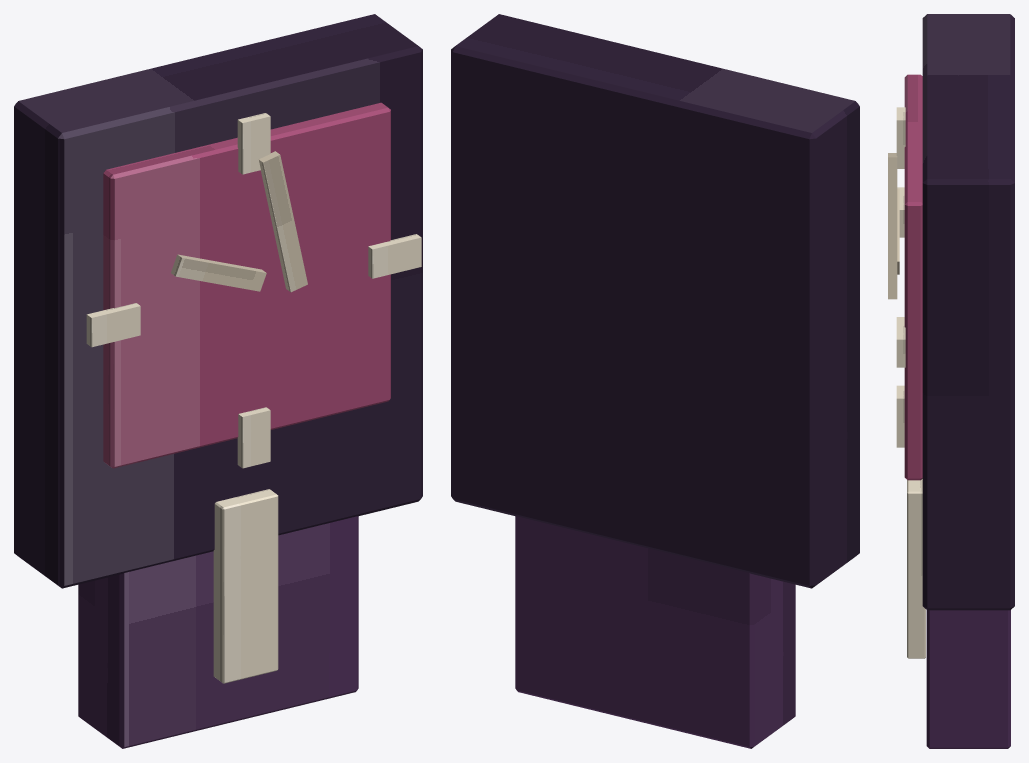
The model's file is bedroom_wall_clock_violet.glb.
The picture shows the model from 3 angles, left to right: view 1: azimuth 30°, elevation 25°; view 2: azimuth 150°, elevation 25°; view 3: azimuth 270°, elevation 25°; orthographic projection. The views are drawn at different scales.
Parts seen in each view (by area): view 1: ClockBack, ClockFace, ClockPendulumCase, ClockPendulum, ClockHandMinute, ClockHandHour, ClockMarker_-0.2_1.45, ClockMarker_0.0_1.25, ClockMarker_0.2_1.45, ClockMarker_0.0_1.65; view 2: ClockBack, ClockPendulumCase; view 3: ClockBack, ClockPendulumCase, ClockFace, ClockPendulum, ClockHandMinute, ClockMarker_0.0_1.65, ClockMarker_0.0_1.25, ClockMarker_0.2_1.45, ClockMarker_-0.2_1.45, ClockHandHour.
Part boxes in pixels (<box>): ClockBack: <box>14,14,422,588</box>; ClockFace: <box>103,102,390,468</box>; ClockPendulumCase: <box>78,516,358,748</box>; ClockPendulum: <box>213,489,278,683</box>; ClockHandMinute: <box>258,151,307,292</box>; ClockHandHour: <box>171,254,266,291</box>; ClockMarker_-0.2_1.45: <box>86,303,140,347</box>; ClockMarker_0.0_1.25: <box>237,407,270,468</box>; ClockMarker_0.2_1.45: <box>368,234,421,278</box>; ClockMarker_0.0_1.65: <box>237,113,270,174</box>; ClockBack: <box>451,14,859,588</box>; ClockPendulumCase: <box>515,516,795,748</box>; ClockBack: <box>922,14,1014,610</box>; ClockPendulumCase: <box>926,610,1010,748</box>; ClockFace: <box>904,74,922,480</box>; ClockPendulum: <box>907,479,925,658</box>; ClockHandMinute: <box>888,153,897,299</box>; ClockMarker_0.0_1.65: <box>896,107,905,168</box>; ClockMarker_0.0_1.25: <box>896,385,904,447</box>; ClockMarker_0.2_1.45: <box>896,317,905,367</box>; ClockMarker_-0.2_1.45: <box>897,187,904,237</box>; ClockHandHour: <box>897,188,899,274</box>.
Size of the model in its own units: 0.52 by 0.86 by 0.165.
Materials: 1 (1 with a texture image).
